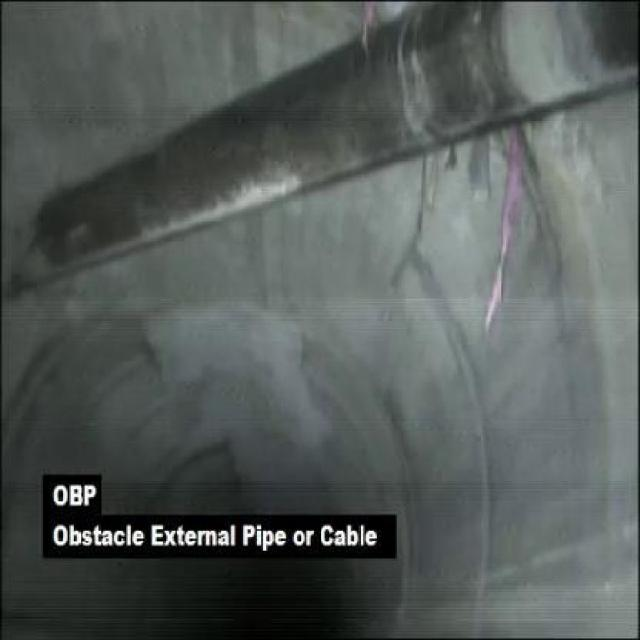Utility intrusion: (0, 0, 638, 314)
